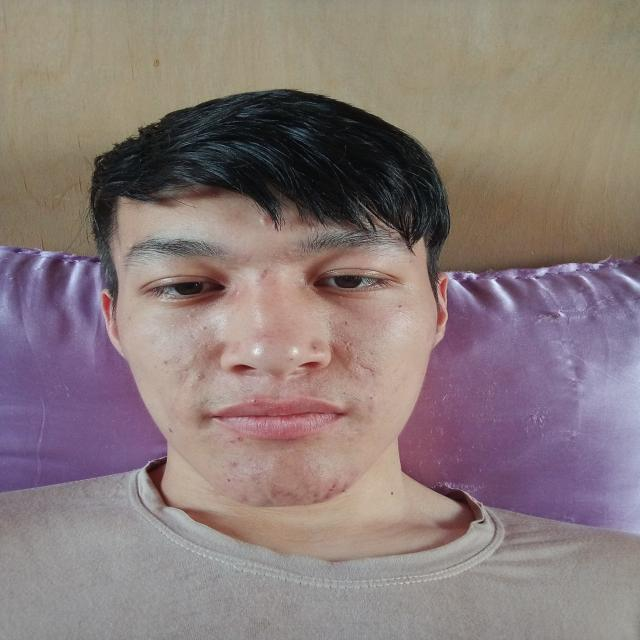Acne: (266, 486, 310, 502), (318, 481, 348, 501), (246, 465, 262, 484), (226, 432, 243, 445), (234, 492, 250, 505), (256, 213, 273, 225), (259, 265, 270, 281), (248, 397, 264, 405), (194, 372, 206, 382), (198, 323, 209, 333), (308, 343, 318, 353), (228, 458, 238, 467), (161, 358, 171, 367)
Englarged-Pores: (328, 326, 384, 380), (176, 342, 216, 374), (254, 326, 279, 343)
Wrinkles: (171, 373, 188, 411)
